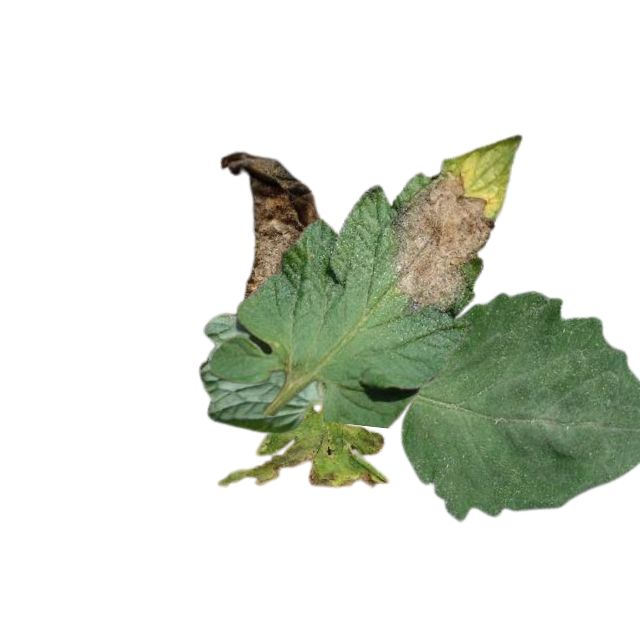Late_blight: (389, 168, 496, 316), (219, 150, 320, 300), (218, 414, 388, 491)
